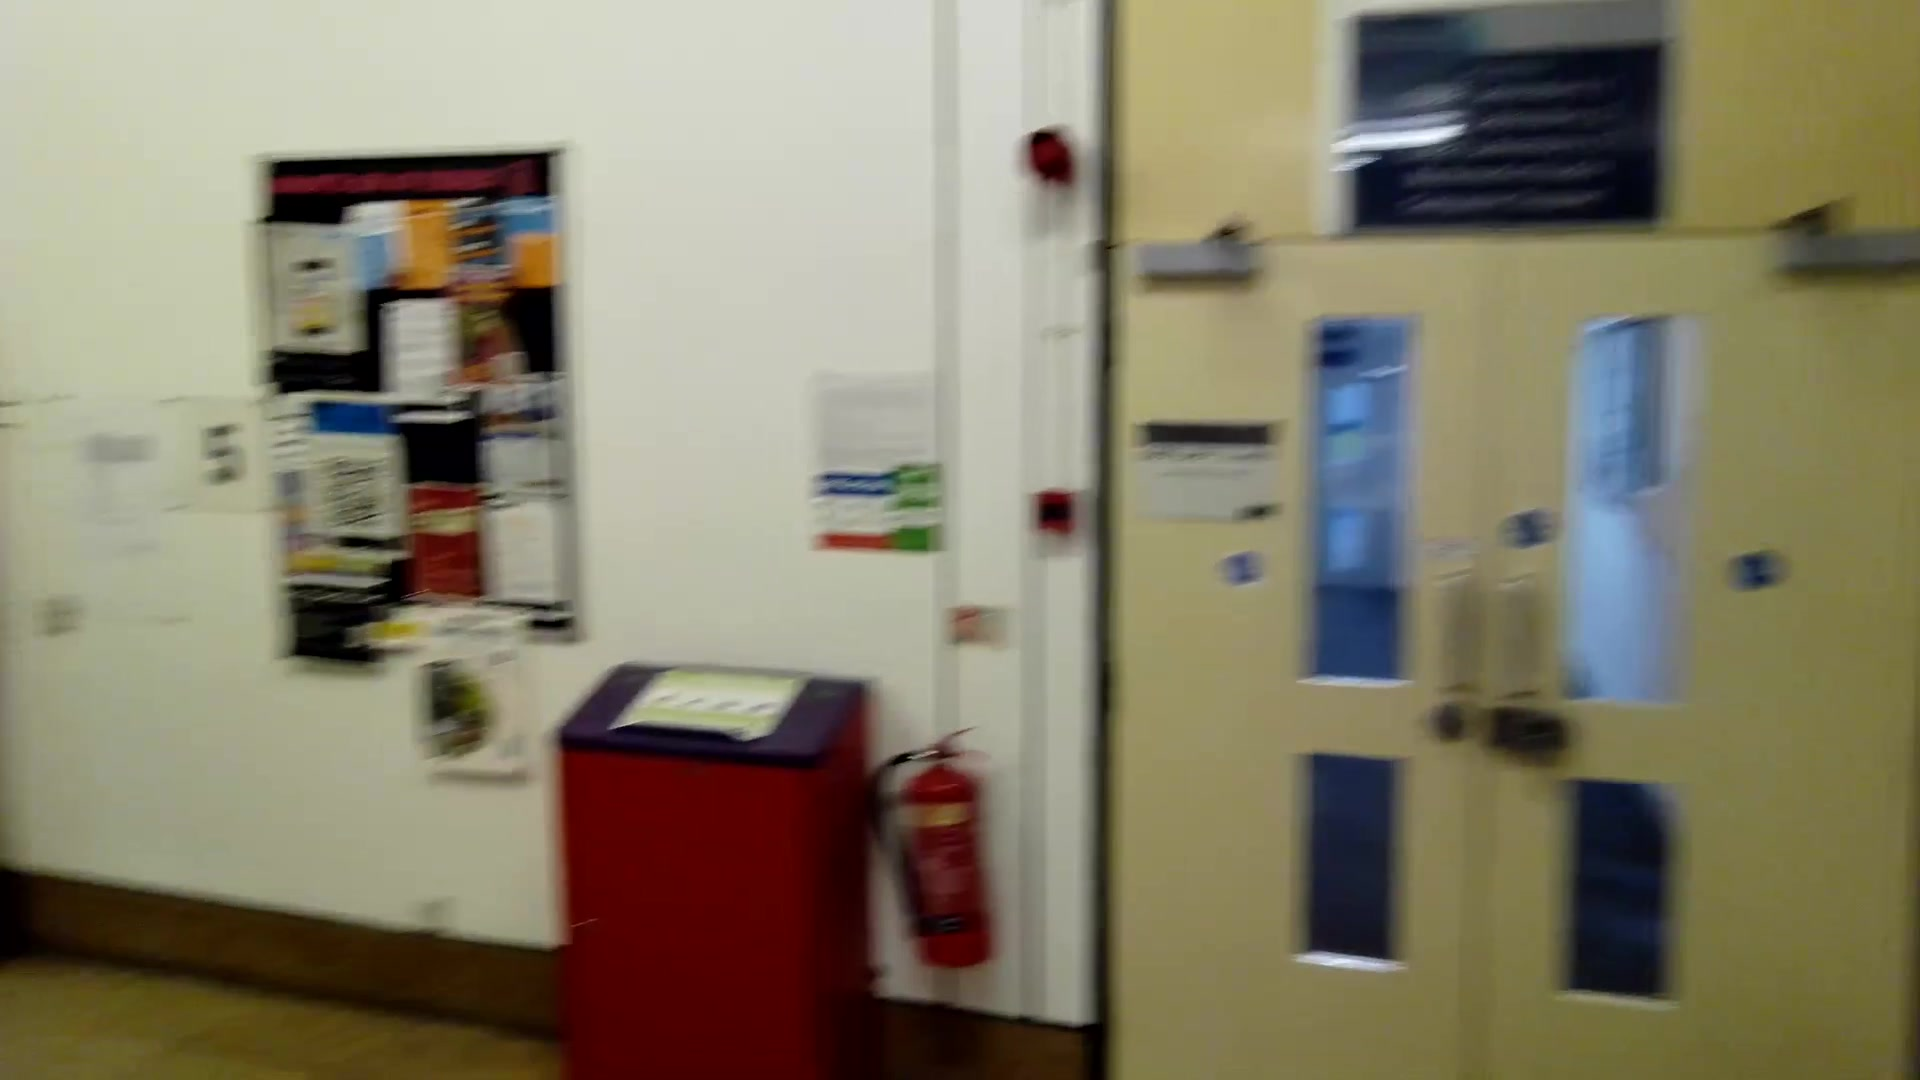Bin: (560, 647, 890, 1077)
Door: (1098, 225, 1920, 1080)
